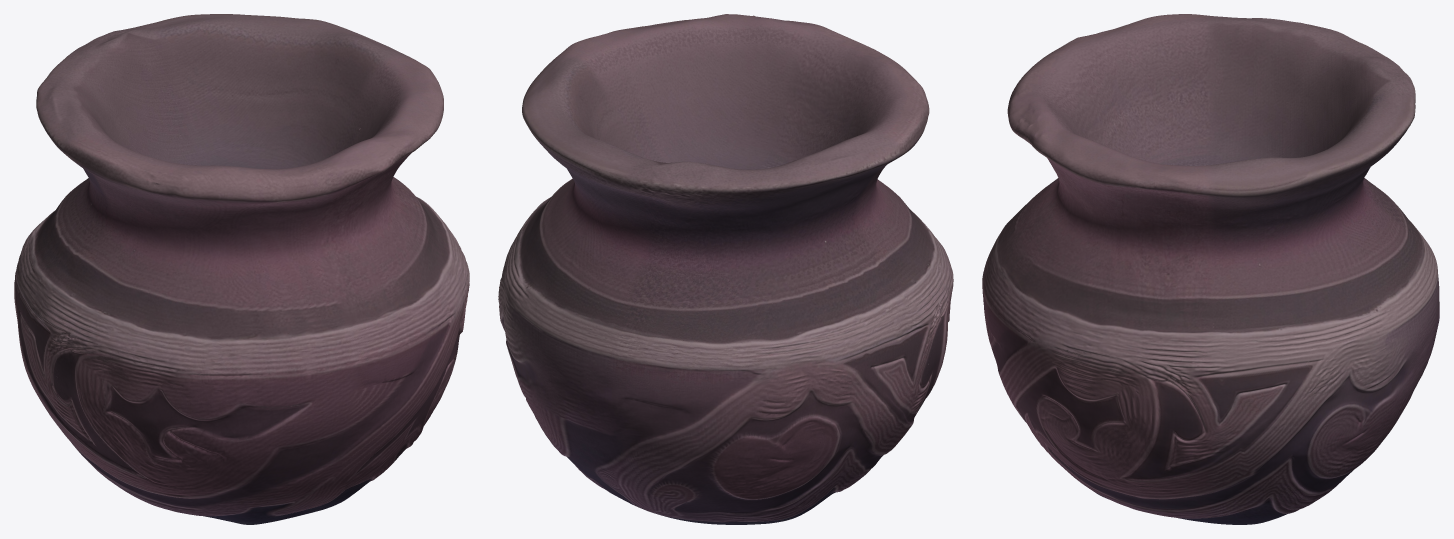
Rendered from vanlang15b.glb.
The picture shows the model from 3 angles, left to right: view 1: azimuth 30°, elevation 25°; view 2: azimuth 150°, elevation 25°; view 3: azimuth 270°, elevation 25°; orthographic projection.
Visible parts, largest first — view 1: tripo_node_f9e13be7-31c1-4a48-89af-a8cf0316f769; view 2: tripo_node_f9e13be7-31c1-4a48-89af-a8cf0316f769; view 3: tripo_node_f9e13be7-31c1-4a48-89af-a8cf0316f769.
Boxes of the visible parts, left/top/right/bottom form: tripo_node_f9e13be7-31c1-4a48-89af-a8cf0316f769: left=14, top=14, right=469, bottom=524; tripo_node_f9e13be7-31c1-4a48-89af-a8cf0316f769: left=498, top=14, right=953, bottom=524; tripo_node_f9e13be7-31c1-4a48-89af-a8cf0316f769: left=982, top=14, right=1439, bottom=524.
Size of the model in its own units: 0.9994 by 0.9511 by 1.
1 material, 1 textured.
